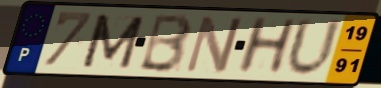7: (43, 9, 95, 69)
B: (135, 13, 195, 75)
H: (233, 16, 301, 76)
M: (79, 12, 148, 71)
N: (182, 14, 246, 75)
U: (283, 16, 345, 80)
